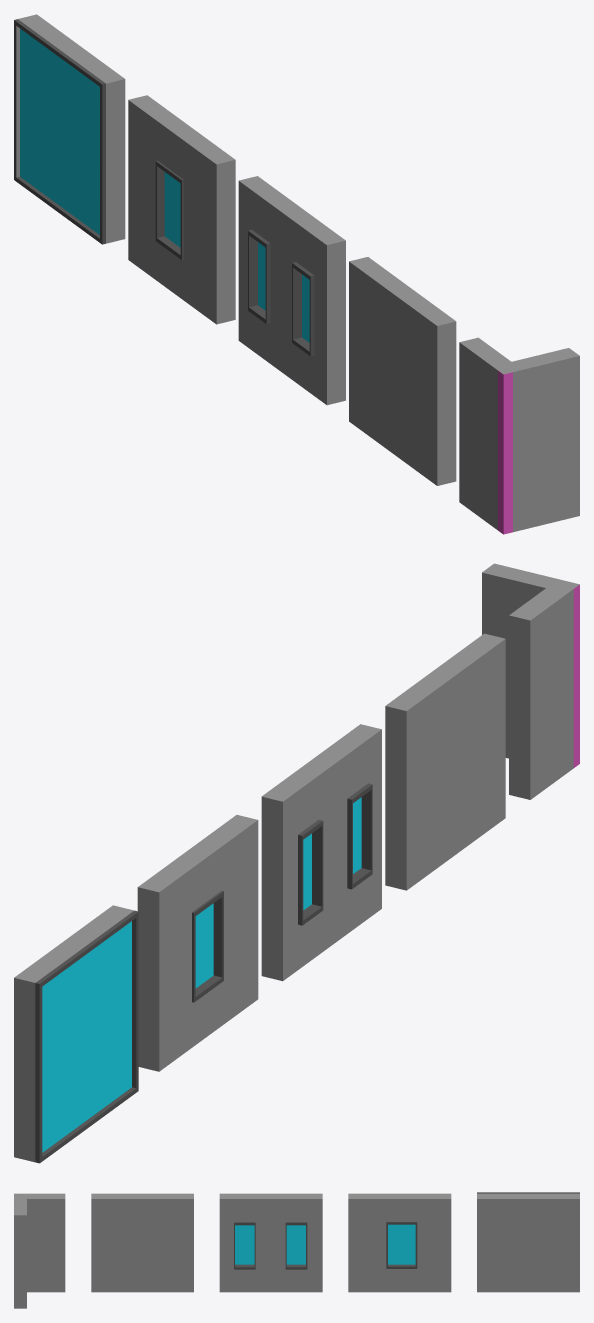
The model's file is ProceduralArt.fbx.
3 renders of one model, top to bottom at view 1: azimuth 30°, elevation 25°; view 2: azimuth 150°, elevation 25°; view 3: azimuth 270°, elevation 25°, orthographic. The views are drawn at different scales.
Parts seen in each view (by area): view 1: Cube, Cube.007, Cube.001, Cube.005, Cube.002, Cube.006, Cube.003, Cube.004; view 2: Cube.007, Cube.001, Cube.005, Cube.002, Cube, Cube.006, Cube.004, Cube.003; view 3: Cube.007, Cube.001, Cube.005, Cube.002, Cube, Cube.006, Cube.003, Cube.004.
Boxes of the visible parts, box(x1,y1,x2,y2) form: Cube: box(459, 337, 579, 534); Cube.007: box(14, 14, 125, 244); Cube.001: box(349, 257, 456, 485); Cube.005: box(128, 95, 235, 324); Cube.002: box(238, 176, 345, 405); Cube.006: box(155, 160, 183, 260); Cube.003: box(248, 229, 270, 324); Cube.004: box(292, 262, 314, 356); Cube.007: box(14, 905, 138, 1163); Cube.001: box(385, 633, 505, 890); Cube.005: box(137, 815, 258, 1071); Cube.002: box(261, 724, 381, 981); Cube: box(482, 563, 579, 799); Cube.006: box(192, 891, 223, 1002); Cube.004: box(347, 783, 372, 889); Cube.003: box(298, 820, 323, 925); Cube.007: box(477, 1192, 579, 1292); Cube.001: box(91, 1193, 193, 1292); Cube.005: box(348, 1193, 451, 1292); Cube.002: box(219, 1193, 322, 1292); Cube: box(14, 1193, 65, 1308); Cube.006: box(386, 1222, 417, 1268); Cube.003: box(285, 1222, 307, 1269); Cube.004: box(234, 1222, 255, 1269).
Size of the model in its own units: 210 by 400 by 2200.
